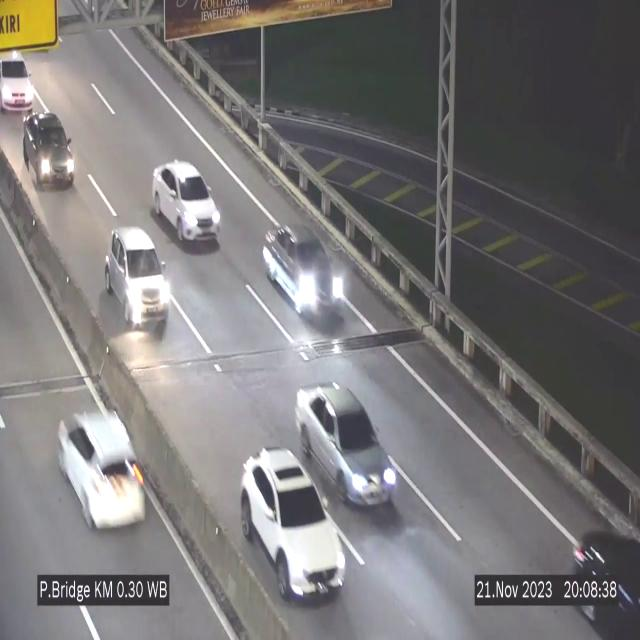Car: (241, 447, 345, 598), (52, 399, 152, 540), (295, 384, 398, 506), (559, 518, 640, 640), (262, 226, 346, 324), (105, 228, 169, 330), (152, 160, 220, 245), (18, 112, 78, 191), (0, 52, 42, 111)
